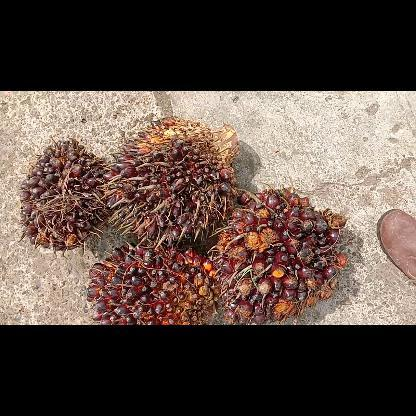Kurang masak: (210, 184, 352, 324), (103, 114, 240, 244), (17, 136, 118, 254), (83, 240, 221, 324)
